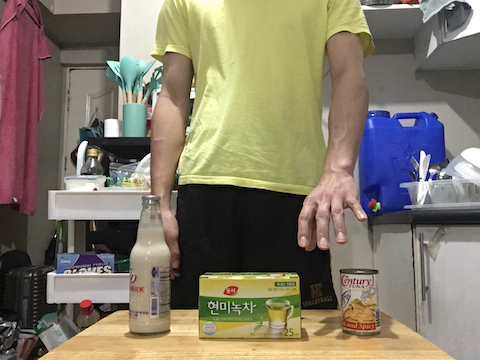bottle: (121, 189, 175, 342)
box: (194, 268, 309, 346)
can: (339, 265, 383, 338)
